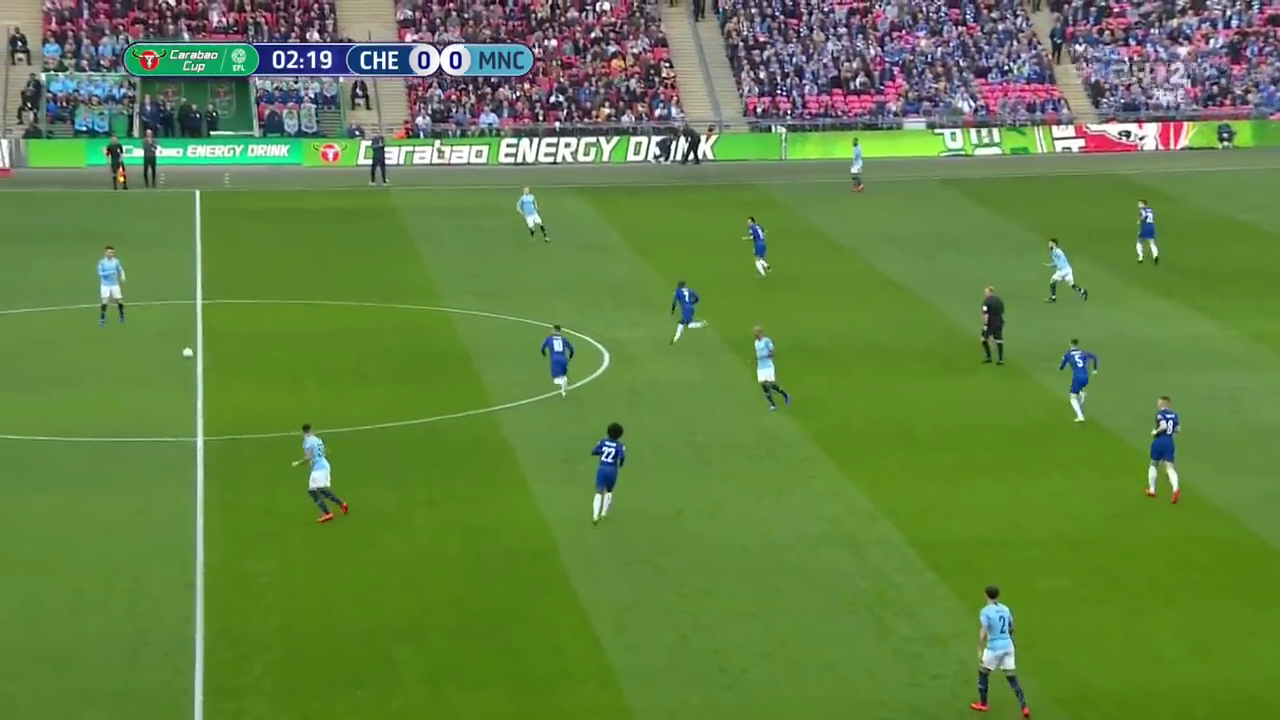ball: (179, 345, 195, 359)
player: (967, 582, 1035, 719), (289, 418, 354, 526), (587, 422, 629, 531), (1054, 336, 1105, 425), (1144, 390, 1182, 504), (744, 325, 790, 410), (91, 244, 129, 334), (1043, 239, 1091, 308), (671, 276, 711, 352), (537, 322, 576, 399), (974, 285, 1009, 365), (516, 187, 554, 247), (741, 212, 771, 280), (1130, 199, 1160, 263), (848, 137, 869, 193)
